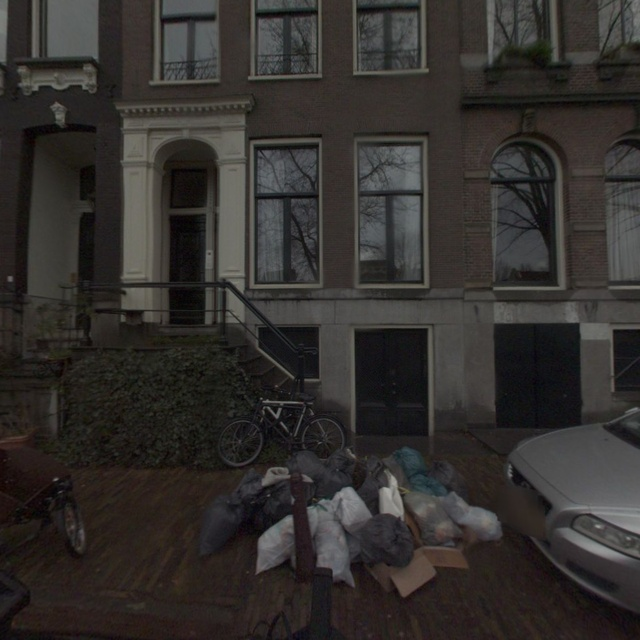Bulky Waste: (198, 450, 503, 593)
